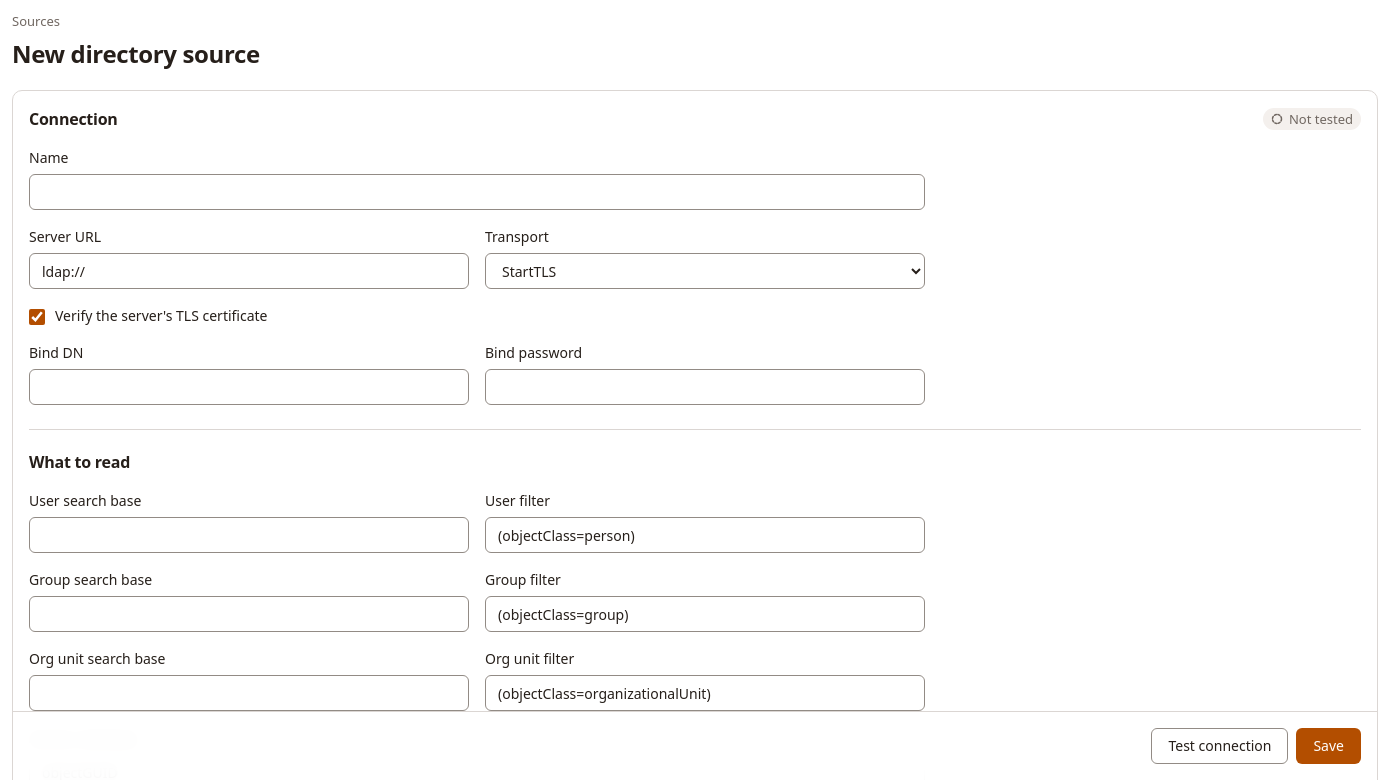
it: creating a source › says so, on the saved source, when the mappings were refused
Step 1. Type "Acme LDAP" into the field labelled "Name" → point(477, 192), box [29,174,925,210]
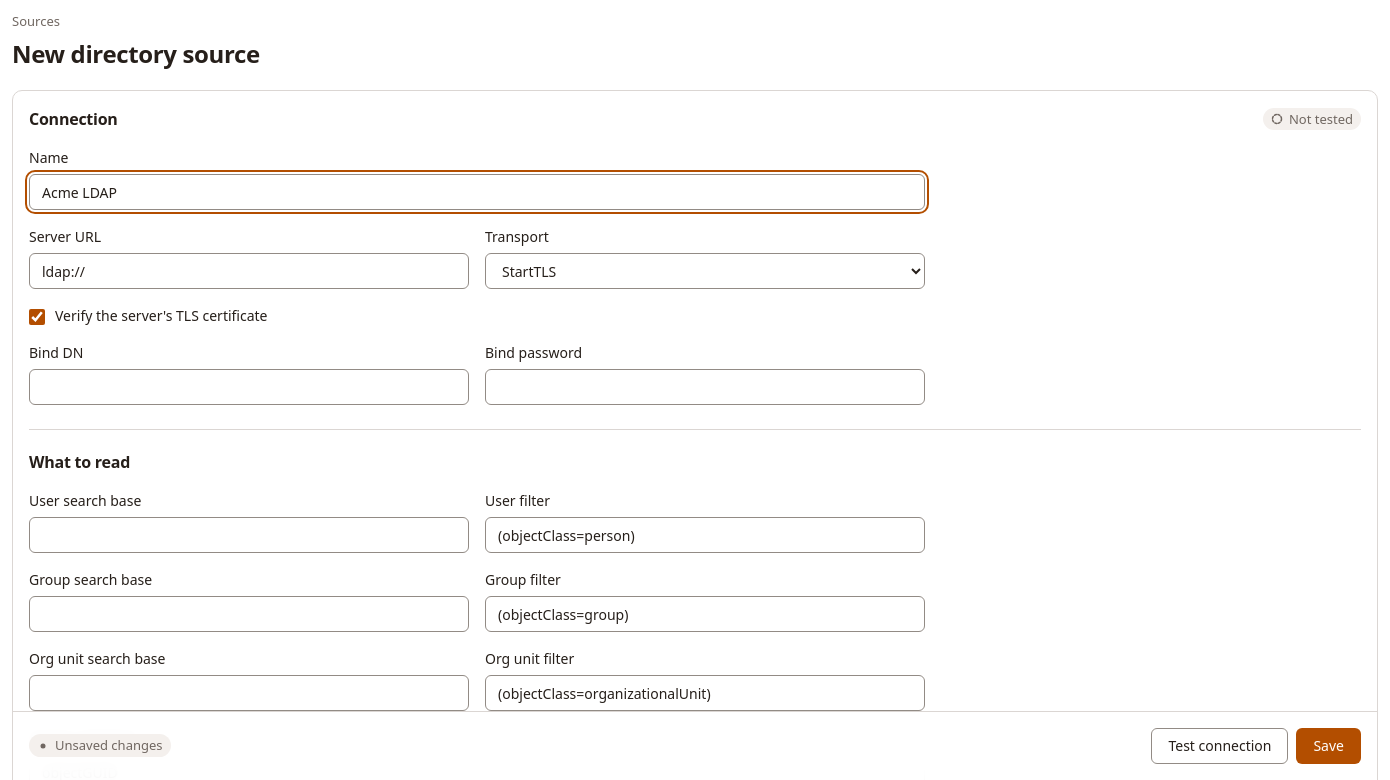
Step 2. Type "secret" into the password field labelled "Bind password" → point(705, 387), box [485,369,925,405]
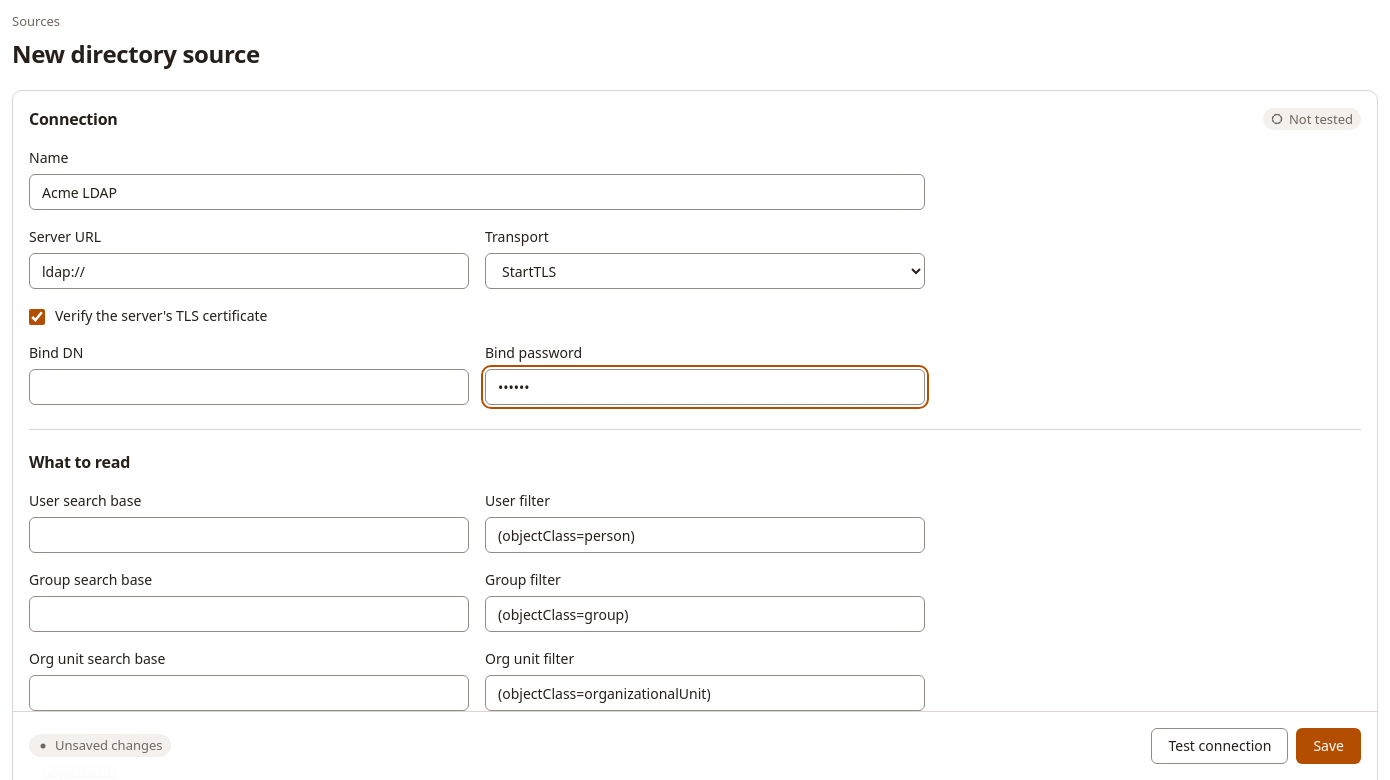
Step 3. Click the button "Save" → point(1329, 746), box [1296,728,1361,764]
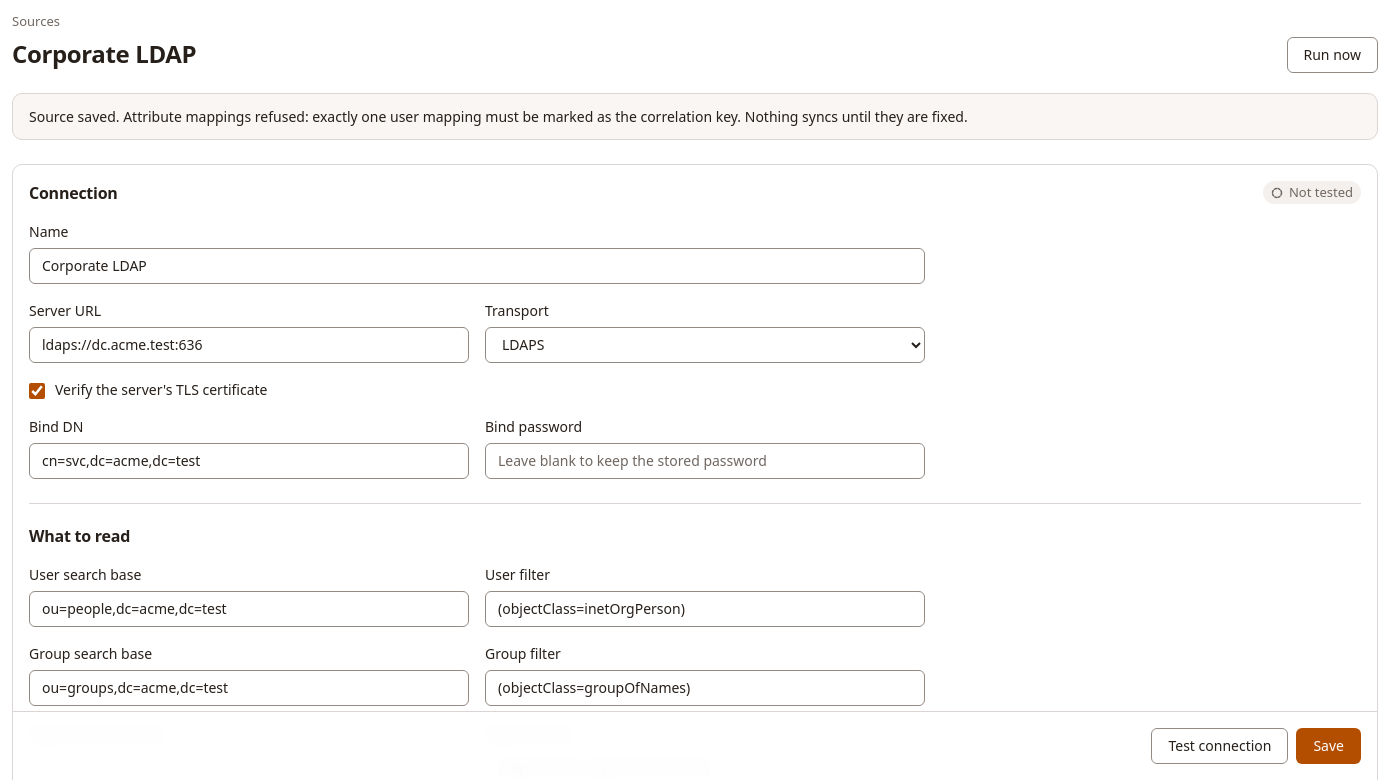
Expected: the text "nothing syncs" is shown, [29,107,968,126]
